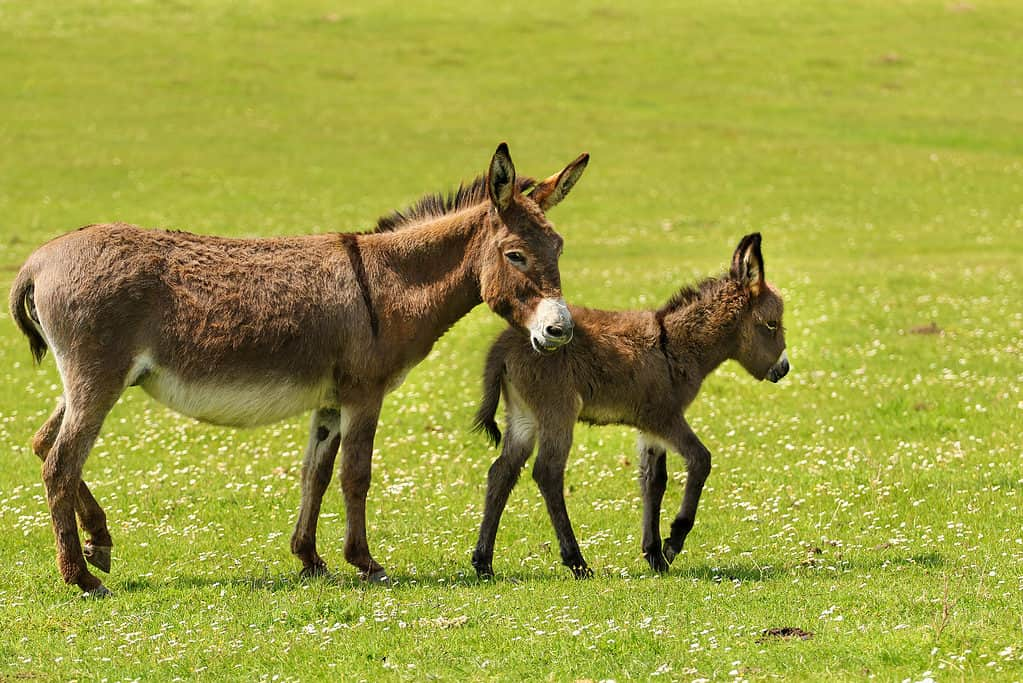donkey: (21, 141, 584, 564), (489, 236, 798, 554)
